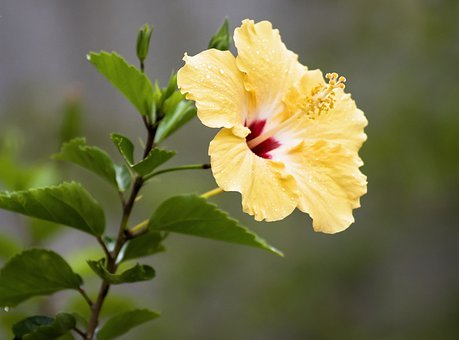Hibiscus: (183, 13, 385, 238)
